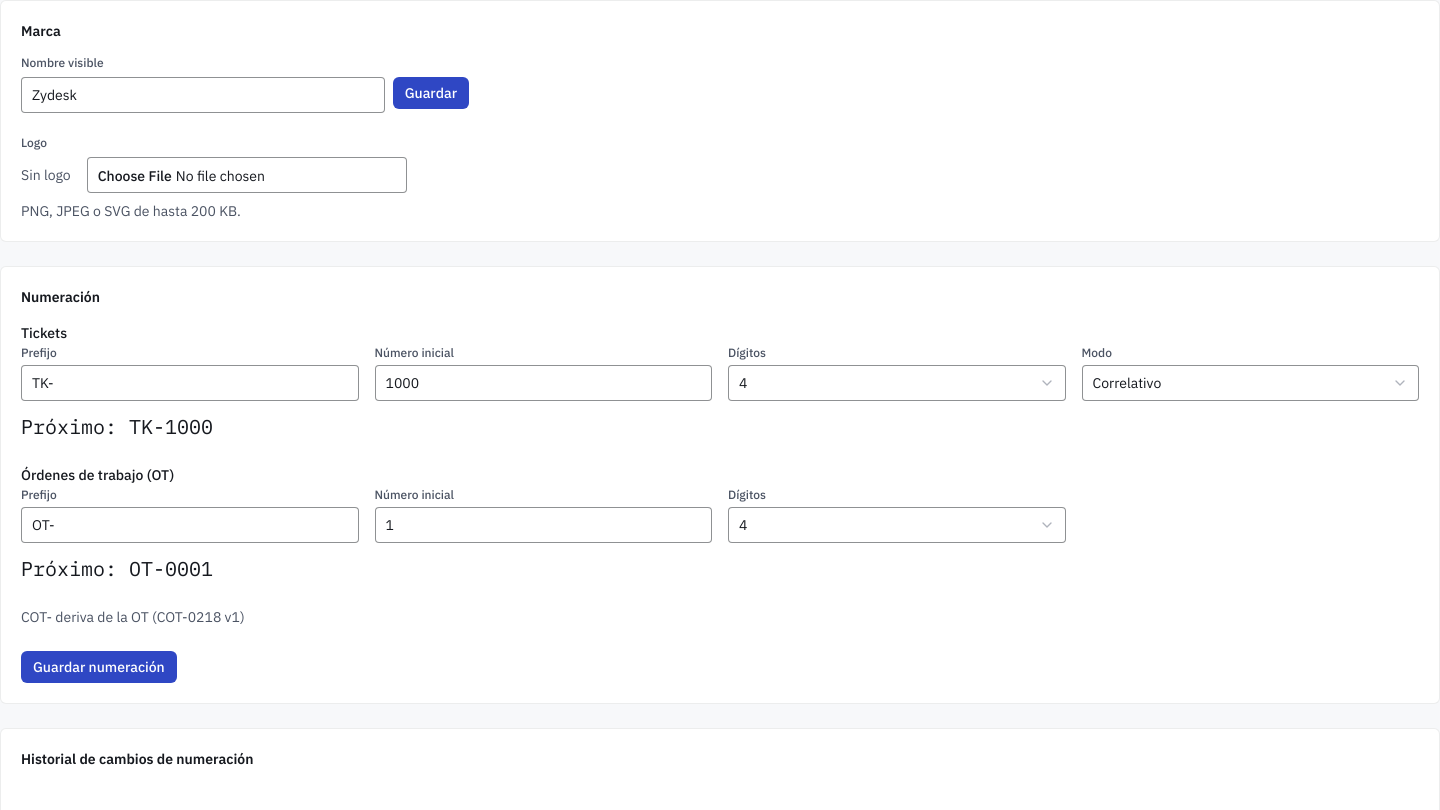
muestra la vista previa del próximo código y se actualiza al editar
Expected: the text "Próximo: TK-1000" is shown, [21, 413, 213, 440]
Expected: the text "Próximo: OT-0001" is shown, [21, 555, 213, 582]
Replace the text in the field with id "ticket-prefijo" with "SOL-" at (190, 383), box [21, 365, 358, 401]
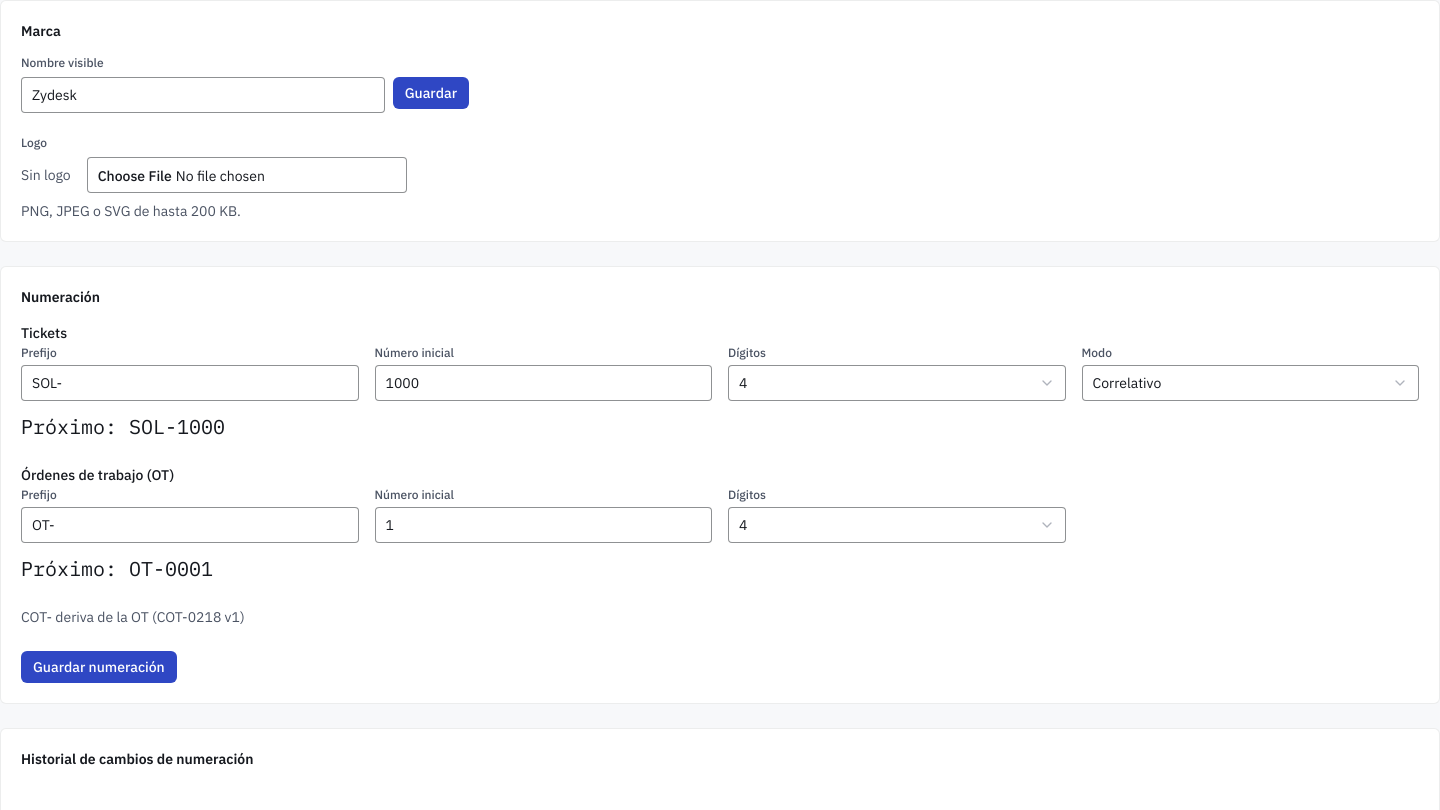
Expected: the text "COT- deriva de la OT (COT-0218 v1)" is shown, [21, 608, 245, 626]
Now the text "Próximo: SOL-1000" is shown, box [21, 413, 225, 440]
